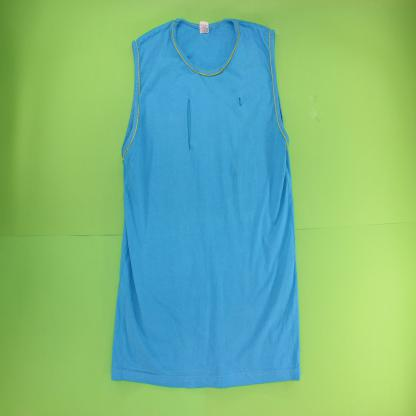hole: (185, 93, 193, 155), (238, 96, 242, 107)
